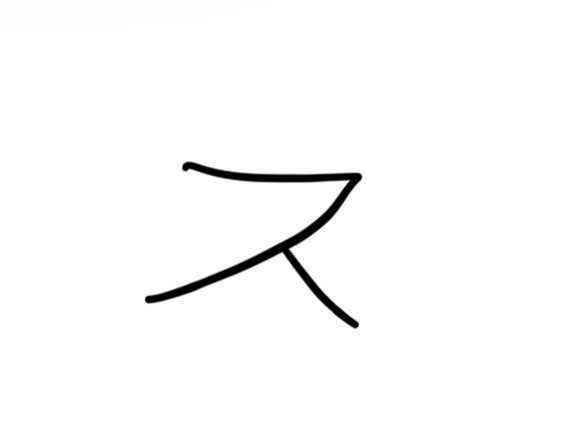su: (142, 147, 373, 335)
